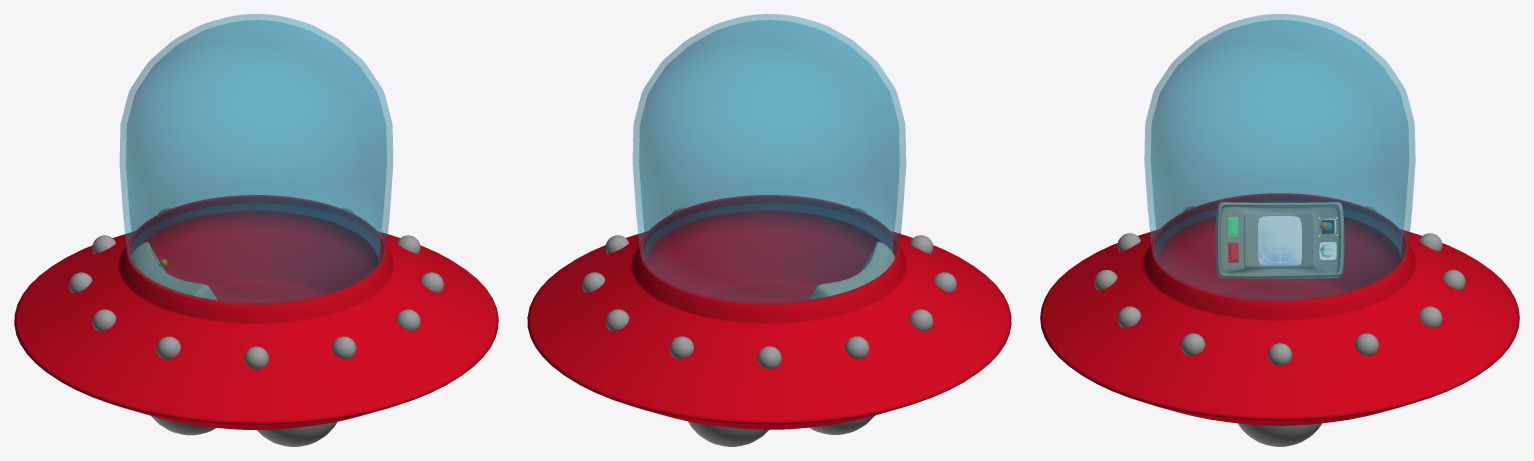
File: ufo.glb
3 renders of one model, left to right at view 1: azimuth 30°, elevation 25°; view 2: azimuth 150°, elevation 25°; view 3: azimuth 270°, elevation 25°, orthographic.
Parts seen in each view (by area): view 1: main_body_14, glass_12, surface_detail_1_13, control_panel_9, gear_1_11, gear_10; view 2: main_body_14, glass_12, surface_detail_1_13, control_panel_9, gear_1_11, gear_10; view 3: main_body_14, glass_12, control_panel_9, surface_detail_1_13, screen_4, gear_10.
Part boxes in pixels (x1,y1,x2,y2): main_body_14: (14, 195, 498, 429); glass_12: (120, 14, 392, 305); surface_detail_1_13: (69, 208, 443, 369); control_panel_9: (130, 242, 216, 299); gear_1_11: (257, 421, 337, 446); gear_10: (151, 416, 216, 435); main_body_14: (527, 195, 1011, 429); glass_12: (633, 14, 905, 304); surface_detail_1_13: (582, 208, 956, 368); control_panel_9: (809, 242, 894, 299); gear_1_11: (688, 421, 768, 446); gear_10: (810, 415, 874, 434); main_body_14: (1040, 193, 1519, 425); glass_12: (1144, 14, 1415, 302); control_panel_9: (1215, 202, 1344, 278); surface_detail_1_13: (1094, 206, 1465, 365); screen_4: (1258, 216, 1301, 265); gear_10: (1238, 423, 1321, 446).
Size of the model in its own units: 6.43 by 5.62 by 6.43.
Materials: 10 (4 with a texture image).
